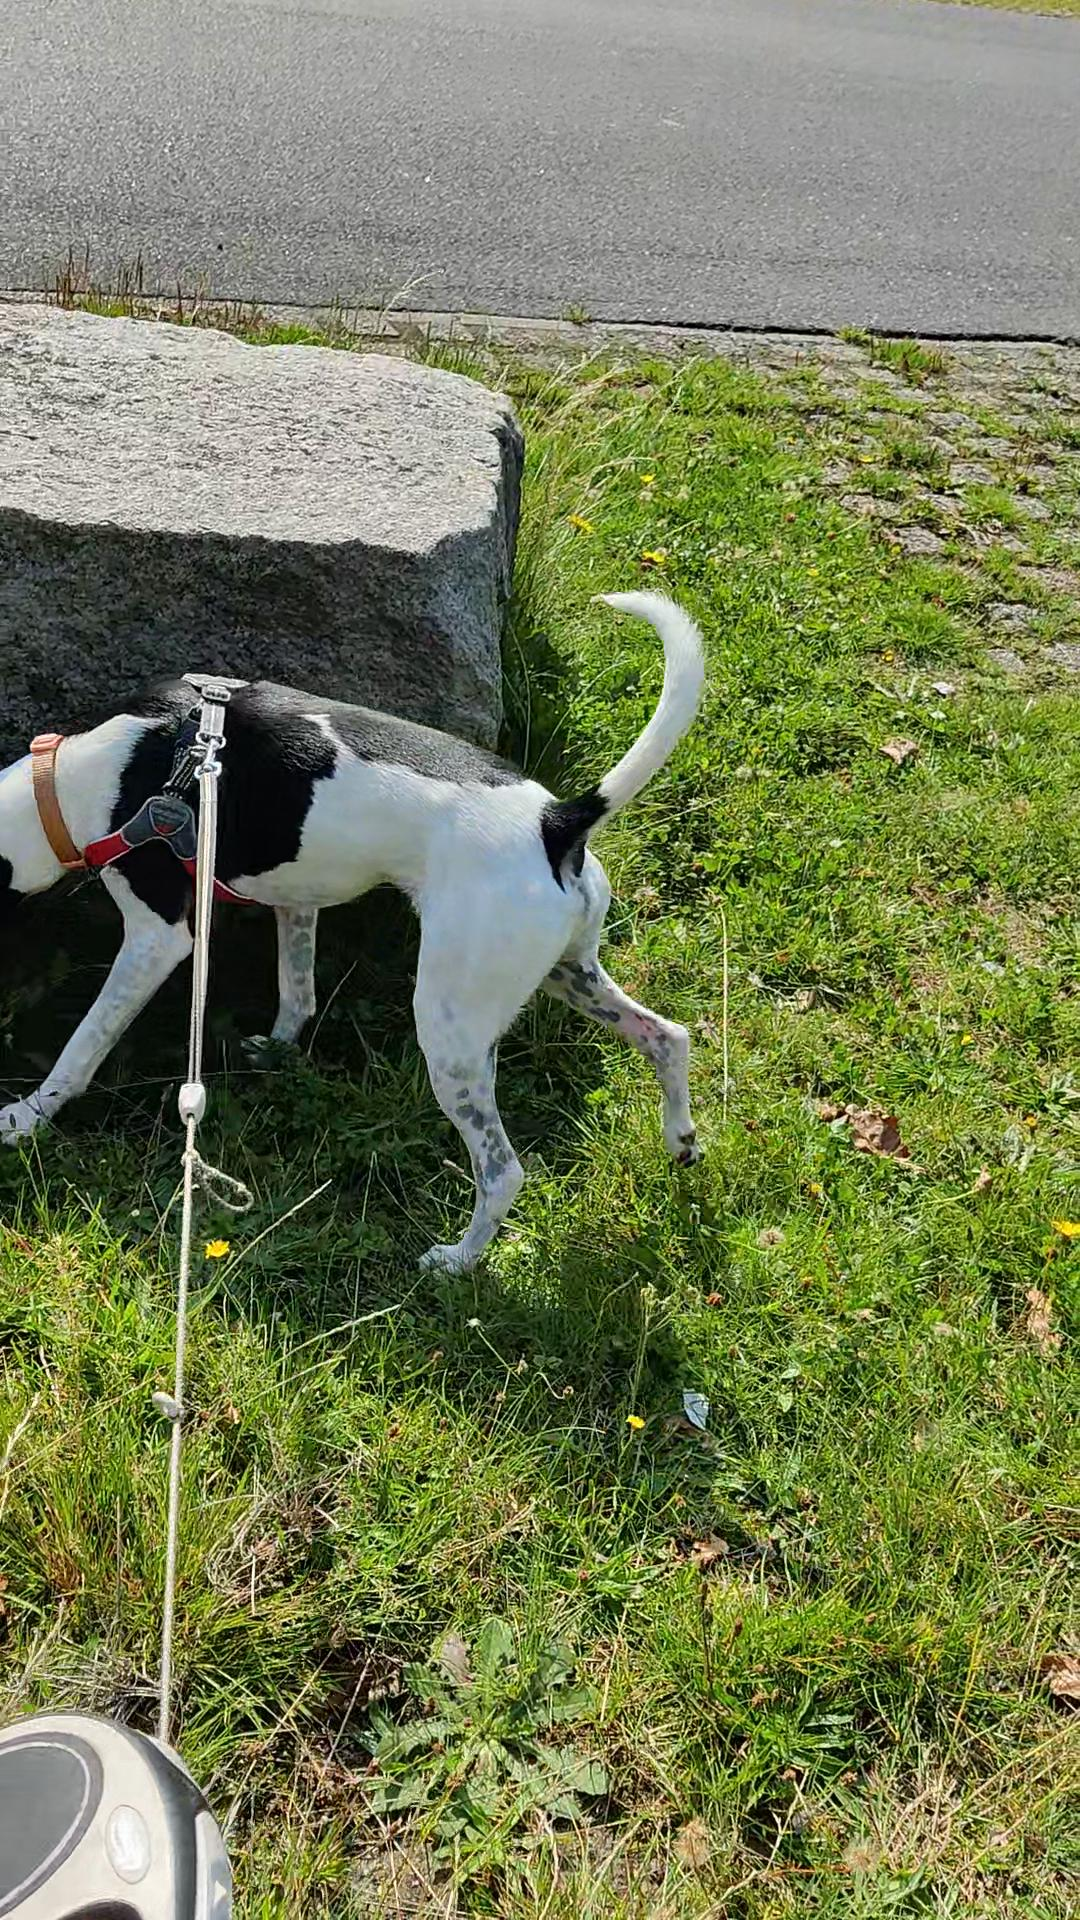Dog: (0, 579, 775, 1288)
